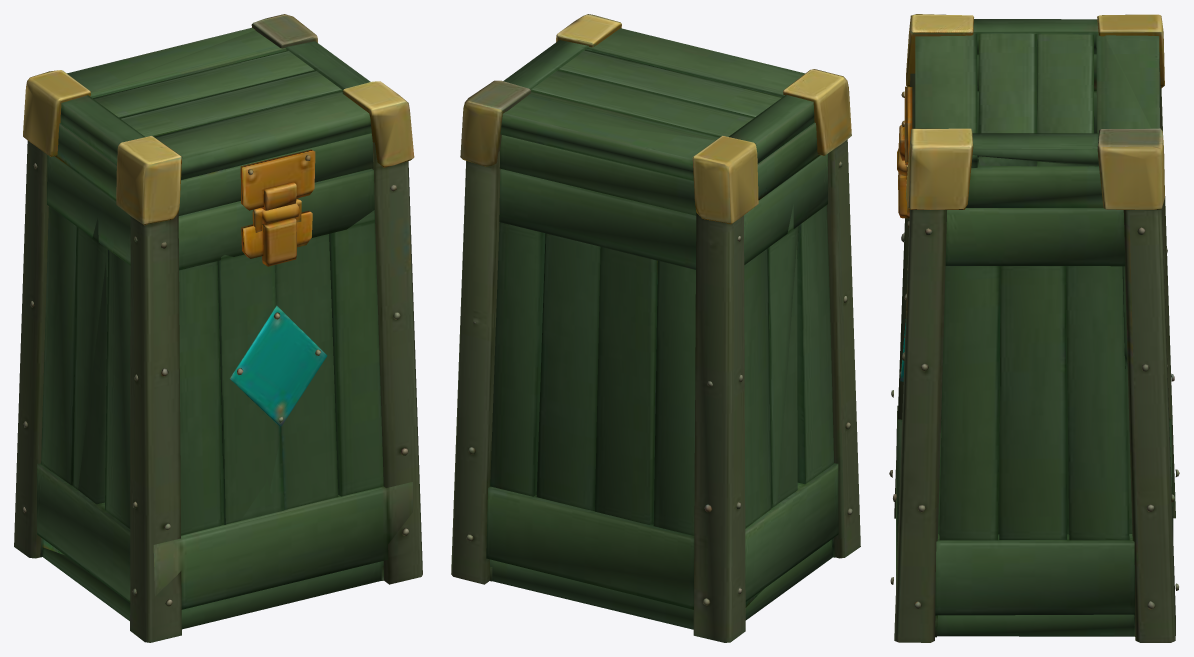
Rendered from tier-2-supply.glb.
3 renders of one model, left to right at view 1: azimuth 30°, elevation 25°; view 2: azimuth 150°, elevation 25°; view 3: azimuth 270°, elevation 25°, orthographic. The views are drawn at different scales.
Visible parts, largest first — view 1: tier-2-supply; view 2: tier-2-supply; view 3: tier-2-supply.
Part boxes in pixels (<box>): tier-2-supply: <box>14,14,422,642</box>; tier-2-supply: <box>451,14,860,642</box>; tier-2-supply: <box>889,14,1179,642</box>.
Size of the model in its own units: 0.6897 by 1.1 by 0.5894.
1 material, 1 textured.
